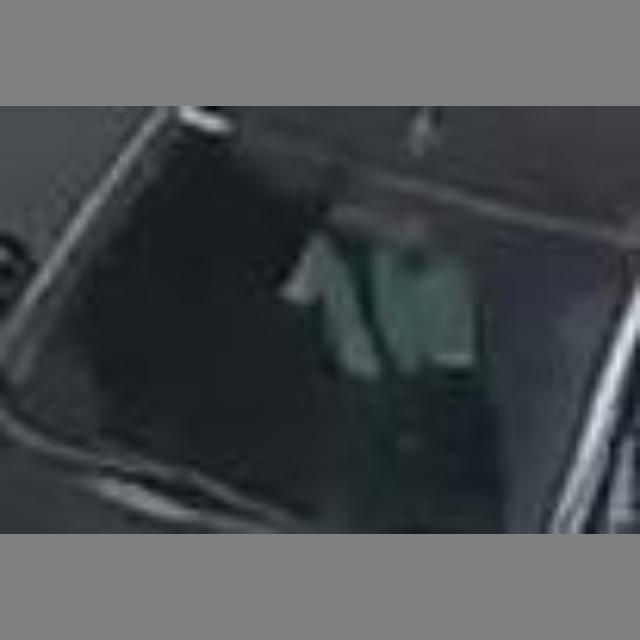pakai: (286, 187, 472, 410)
